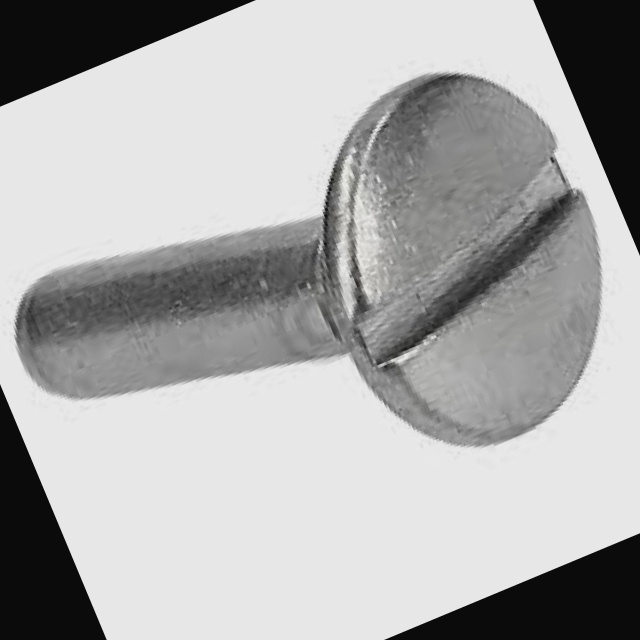duz: (261, 31, 640, 483)
